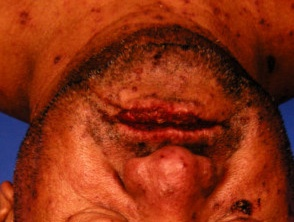SJS-TEN: (111, 97, 234, 142)
